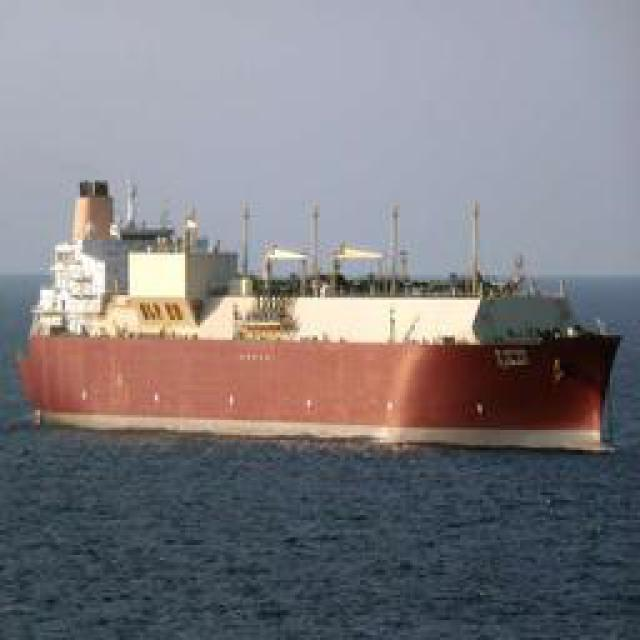Ship: (16, 191, 606, 446)
